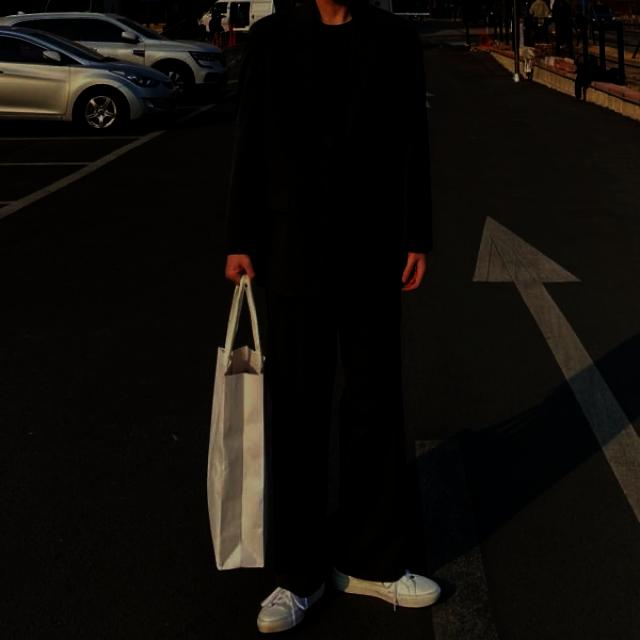blazer: (219, 0, 434, 295)
slacks: (261, 174, 408, 596)
